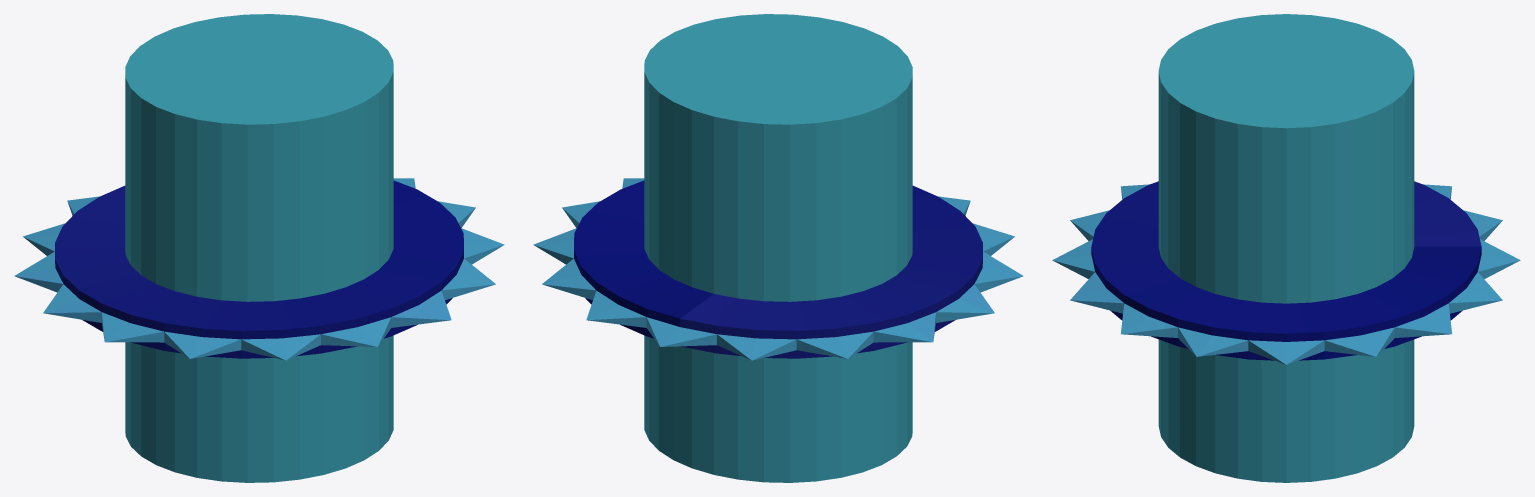
File: DönerBıçak.fbx
3 views of the same model, side by side, from view 1: azimuth 30°, elevation 25°; view 2: azimuth 150°, elevation 25°; view 3: azimuth 270°, elevation 25° (orthographic).
Visible parts, largest first — view 1: Cylinder; view 2: Cylinder; view 3: Cylinder.
Part boxes in pixels (box(x1,y1,x2,y2)): Cylinder: box(14, 14, 504, 482); Cylinder: box(533, 14, 1023, 482); Cylinder: box(1052, 14, 1520, 482).
Bounding box in the file's own units: 103 × 81.41 × 97.49.
